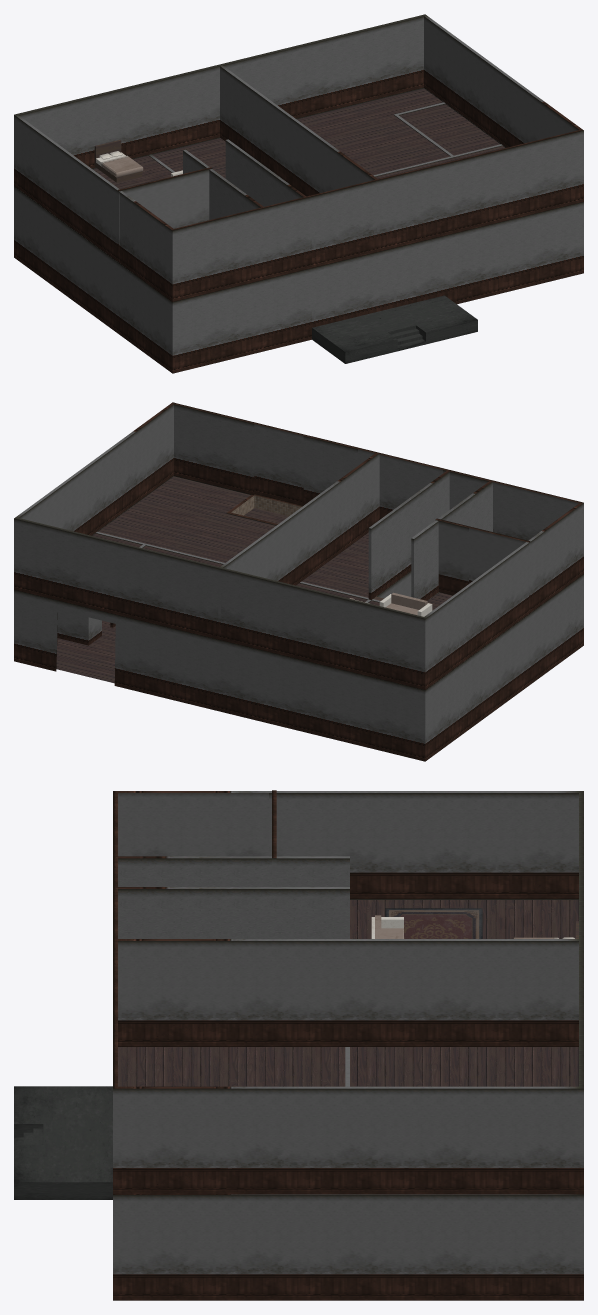
The model's file is map9.glb.
3 views of the same model, one above another, from view 1: azimuth 30°, elevation 25°; view 2: azimuth 150°, elevation 25°; view 3: azimuth 270°, elevation 25° (orthographic). The views are drawn at different scales.
Parts seen in each view (by area): view 1: object 43, object 159, object 40, object 142, object 137, object 136, object 33, object 30, object 156, object 143, object 140, object 154 (+7 smaller); view 2: object 43, object 141, object 159, object 40, object 142, object 137, object 140, object 143, object 158, object 156, object 136, object 157 (+5 smaller); view 3: object 143, object 36, object 140, object 40, object 159, object 158, object 25, object 34, object 118, object 43, object 150.
Part boxes in pixels (bbox=[...]): object 43: bbox=[14, 15, 423, 186]; object 159: bbox=[92, 88, 504, 188]; object 40: bbox=[15, 115, 175, 301]; object 142: bbox=[15, 187, 175, 373]; object 137: bbox=[444, 130, 580, 235]; object 136: bbox=[174, 195, 311, 301]; object 33: bbox=[175, 268, 311, 372]; object 30: bbox=[444, 202, 580, 304]; object 156: bbox=[311, 163, 444, 267]; object 143: bbox=[423, 14, 583, 202]; object 140: bbox=[218, 64, 379, 252]; object 154: bbox=[311, 236, 444, 339]; object 43: bbox=[17, 518, 426, 689]; object 141: bbox=[17, 590, 426, 761]; object 159: bbox=[93, 476, 452, 610]; object 40: bbox=[424, 502, 583, 688]; object 142: bbox=[427, 574, 583, 759]; object 137: bbox=[174, 403, 310, 506]; object 140: bbox=[218, 452, 379, 640]; object 143: bbox=[14, 402, 174, 590]; object 158: bbox=[368, 470, 449, 599]; object 156: bbox=[309, 436, 444, 519]; object 136: bbox=[443, 469, 580, 540]; object 157: bbox=[435, 518, 530, 613]; object 143: bbox=[113, 1086, 583, 1194]; object 36: bbox=[113, 1194, 583, 1300]; object 140: bbox=[113, 939, 583, 1046]; object 40: bbox=[113, 791, 578, 898]; object 159: bbox=[118, 900, 578, 1086]; object 158: bbox=[116, 887, 349, 938]; object 25: bbox=[14, 1086, 112, 1199]; object 34: bbox=[116, 856, 349, 886]; object 118: bbox=[385, 908, 482, 938]; object 43: bbox=[579, 791, 583, 1086]; object 150: bbox=[371, 915, 403, 938].
Bounding box in the file's own units: 85.44 × 29.46 × 69.09.
36 materials, 35 textured.
